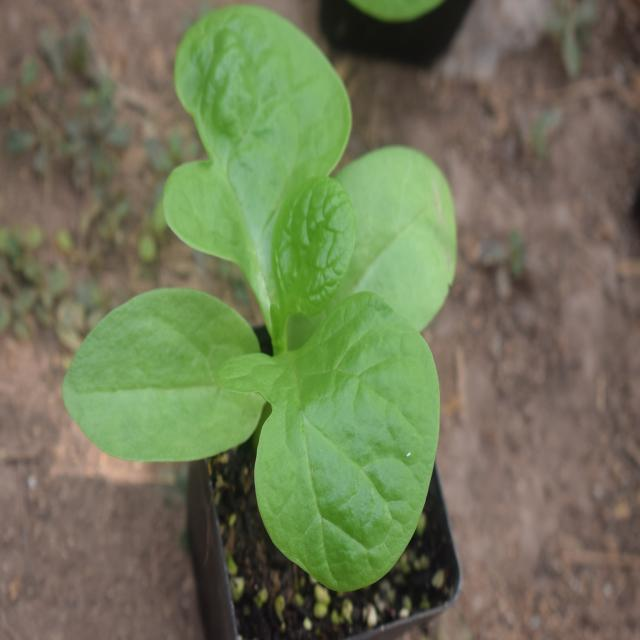Ceylon spinach: (93, 4, 480, 584)
